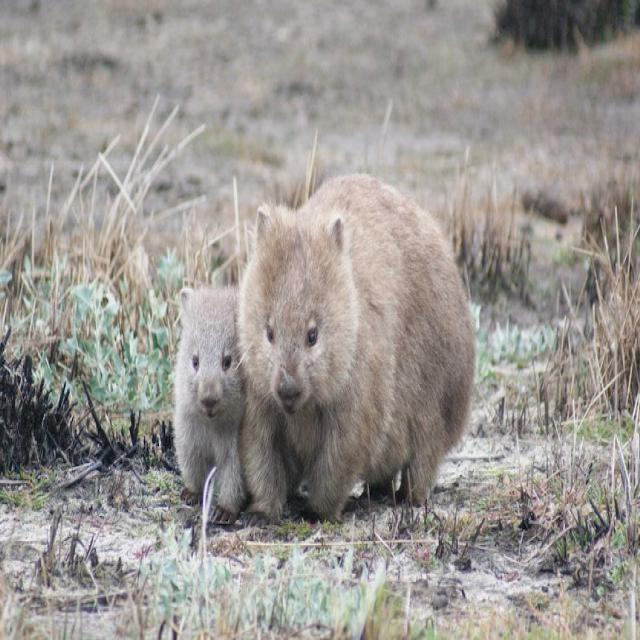Wombat: (242, 163, 480, 523), (168, 276, 260, 524)
